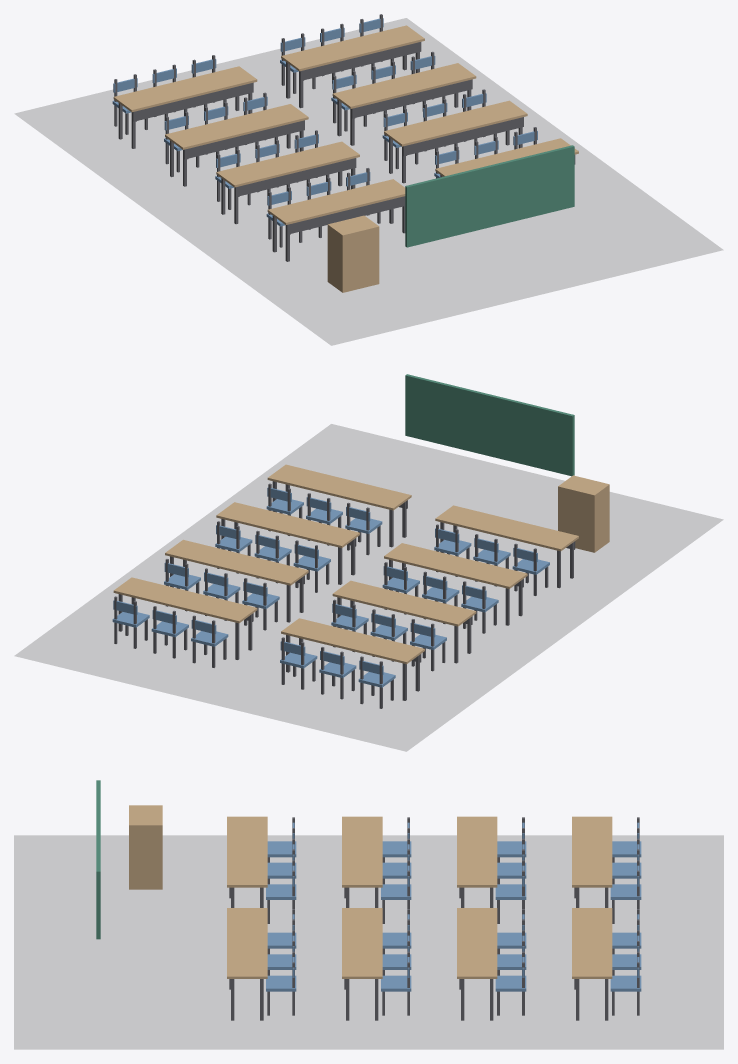
The model's file is StuhlUndTisch.fbx.
The picture shows the model from 3 angles, top to bottom: view 1: azimuth 30°, elevation 25°; view 2: azimuth 150°, elevation 25°; view 3: azimuth 270°, elevation 25°; orthographic projection. The views are drawn at different scales.
Visible parts, largest first — view 1: Boden, Tafel, Tisch_R3_0, Tisch_R1_0, Tisch_R2_1, Tisch_R3_1, Tisch_R0_0, Tisch_R2_0, Tisch_R1_1, Pult, Tisch_R0_1, Stuhl_R2_1_0 (+6 smaller); view 2: Boden, Tafel, Pult, Tisch_R3_1, Tisch_R3_0, Tisch_R2_0, Tisch_R0_1, Tisch_R1_1, Tisch_R1_0, Tisch_R2_1, Tisch_R0_0, Stuhl_R3_0_2 (+23 smaller); view 3: Boden, Tisch_R0_1, Tisch_R1_1, Tisch_R2_1, Tisch_R3_1, Tisch_R0_0, Tisch_R1_0, Tisch_R2_0, Tisch_R3_0, Pult, Tafel, Stuhl_R2_1_2 (+23 smaller).
Part boxes in pixels (bbox=[...]): Boden: bbox=[14, 18, 723, 345]; Tafel: bbox=[405, 145, 574, 247]; Tisch_R3_0: bbox=[113, 66, 257, 148]; Tisch_R1_0: bbox=[216, 141, 359, 224]; Tisch_R2_1: bbox=[332, 63, 476, 145]; Tisch_R3_1: bbox=[281, 25, 424, 108]; Tisch_R0_0: bbox=[267, 179, 405, 261]; Tisch_R2_0: bbox=[165, 104, 308, 186]; Tisch_R1_1: bbox=[384, 100, 527, 183]; Pult: bbox=[327, 215, 379, 292]; Tisch_R0_1: bbox=[435, 138, 578, 177]; Stuhl_R2_1_0: bbox=[331, 71, 366, 131]; Boden: bbox=[14, 424, 723, 751]; Tafel: bbox=[405, 374, 574, 476]; Pult: bbox=[558, 475, 609, 552]; Tisch_R3_1: bbox=[113, 577, 257, 659]; Tisch_R3_0: bbox=[281, 618, 424, 700]; Tisch_R2_0: bbox=[332, 580, 476, 663]; Tisch_R0_1: bbox=[267, 464, 411, 547]; Tisch_R1_1: bbox=[216, 502, 359, 584]; Tisch_R1_0: bbox=[384, 543, 527, 625]; Tisch_R2_1: bbox=[165, 539, 308, 622]; Tisch_R0_0: bbox=[435, 505, 578, 588]; Stuhl_R3_0_2: bbox=[280, 637, 317, 689]; Boden: bbox=[14, 835, 723, 1049]; Tisch_R0_1: bbox=[227, 908, 267, 1020]; Tisch_R1_1: bbox=[342, 908, 382, 1020]; Tisch_R2_1: bbox=[457, 908, 497, 1020]; Tisch_R3_1: bbox=[572, 908, 612, 1020]; Tisch_R0_0: bbox=[227, 816, 267, 907]; Tisch_R1_0: bbox=[342, 816, 382, 907]; Tisch_R2_0: bbox=[457, 816, 497, 907]; Tisch_R3_0: bbox=[572, 816, 612, 907]; Pult: bbox=[129, 805, 162, 889]; Tafel: bbox=[96, 780, 100, 939]; Stuhl_R2_1_2: bbox=[495, 951, 526, 1015].
Bounding box in the file's own units: 750 × 190 × 1050.
